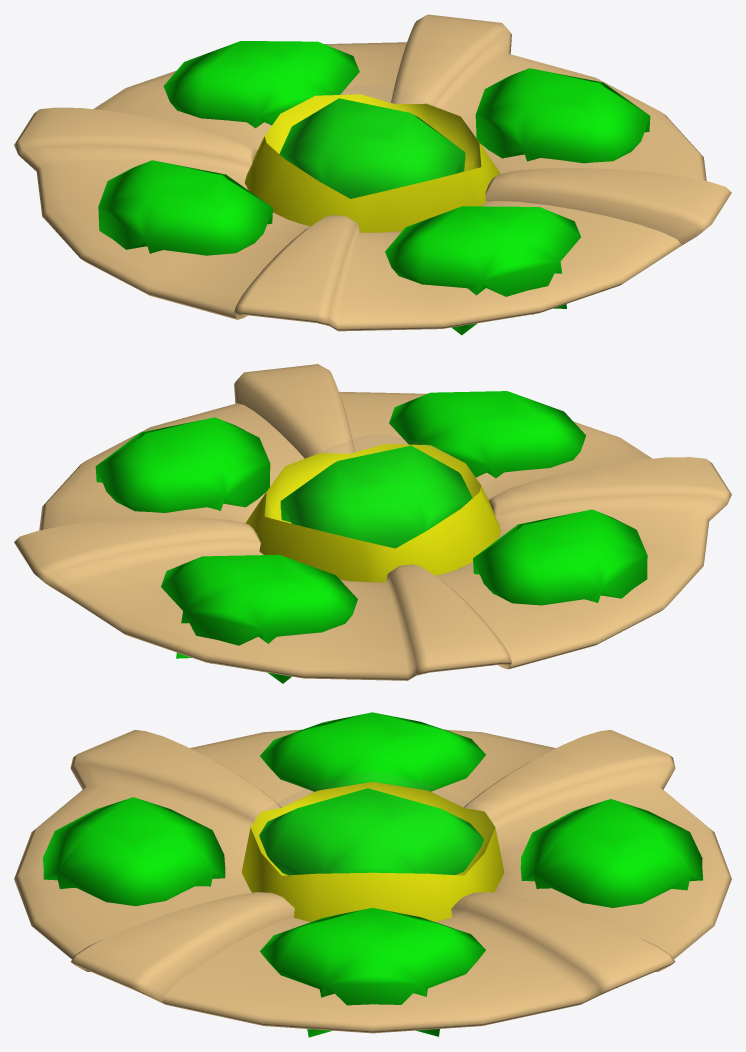
File: Amulet_2_ToPaint.fbx
3 views of the same model, one above another, from view 1: azimuth 30°, elevation 25°; view 2: azimuth 150°, elevation 25°; view 3: azimuth 270°, elevation 25° (orthographic). The views are drawn at different scales.
Parts seen in each view (by area): view 1: pPlatonic7; view 2: pPlatonic7; view 3: pPlatonic7.
Part boxes in pixels (box(x1,y1,x2,y2)): pPlatonic7: box(14, 14, 731, 335); pPlatonic7: box(14, 364, 731, 683); pPlatonic7: box(14, 712, 731, 1037).
Bounding box in the file's own units: 0.0506 × 0.0186 × 0.0506.
